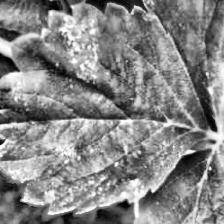Powdery Mildew Leaf: (0, 0, 211, 215), (110, 123, 224, 224)
